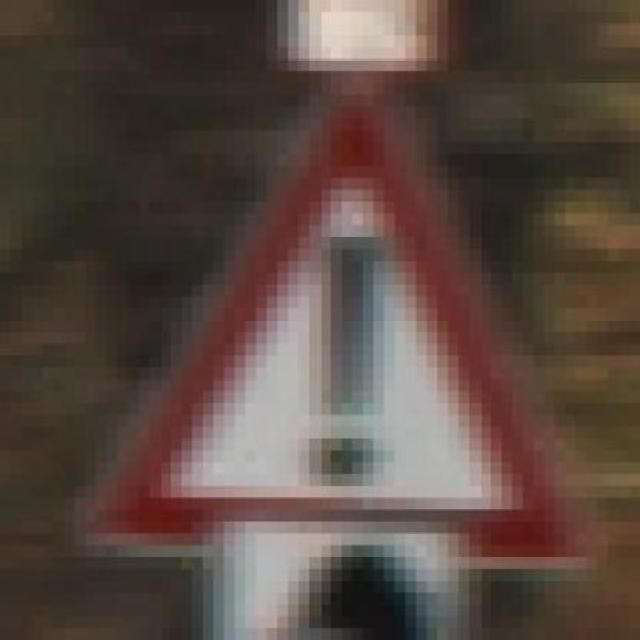Attention Please-: (87, 82, 588, 580)
